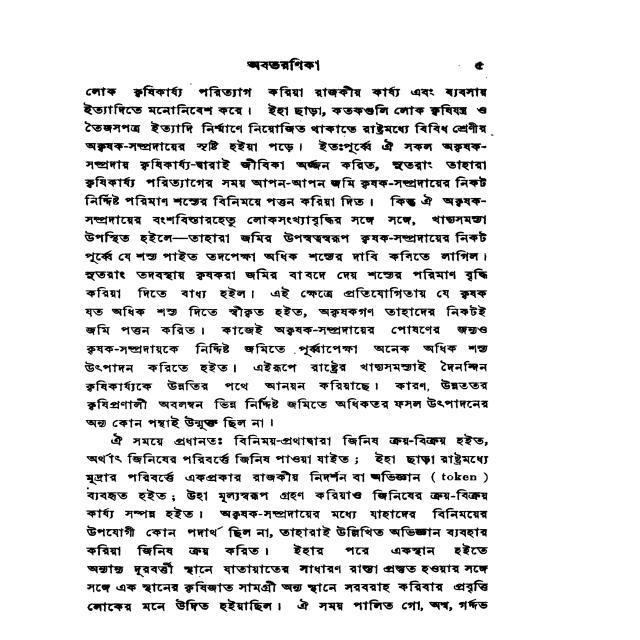page number: (469, 58, 491, 72)
paragraph: (80, 83, 495, 431), (76, 432, 494, 617)
text: (234, 55, 331, 75)
